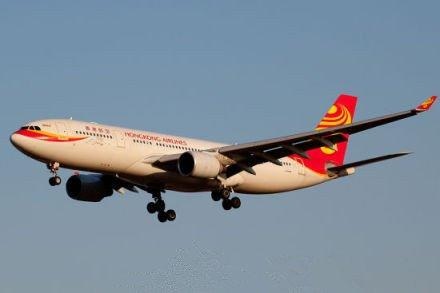airplane: (9, 79, 438, 223)
